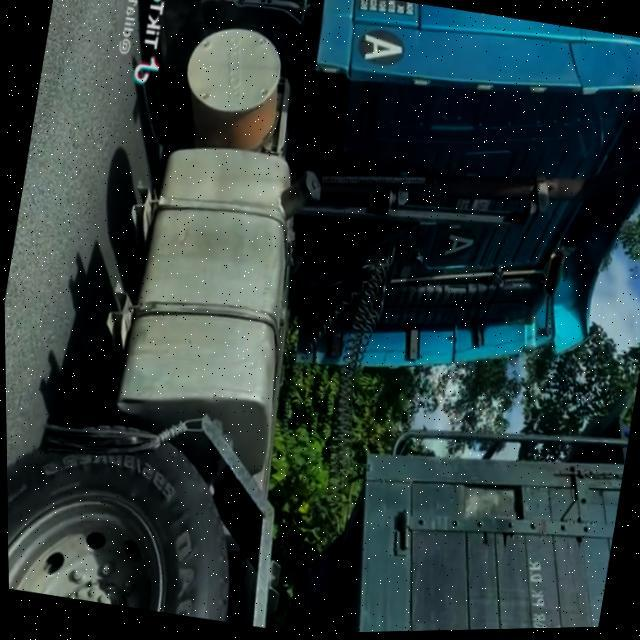truck: (73, 0, 640, 639)
